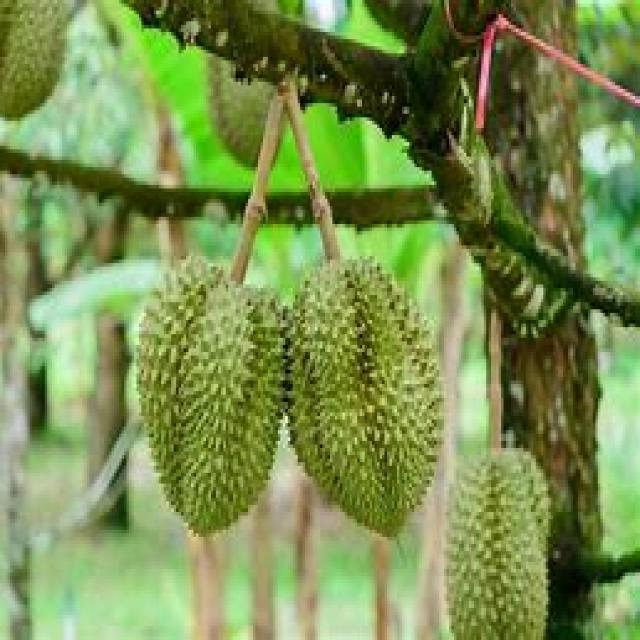immature: (134, 241, 288, 541), (291, 255, 446, 539), (439, 443, 551, 640)
